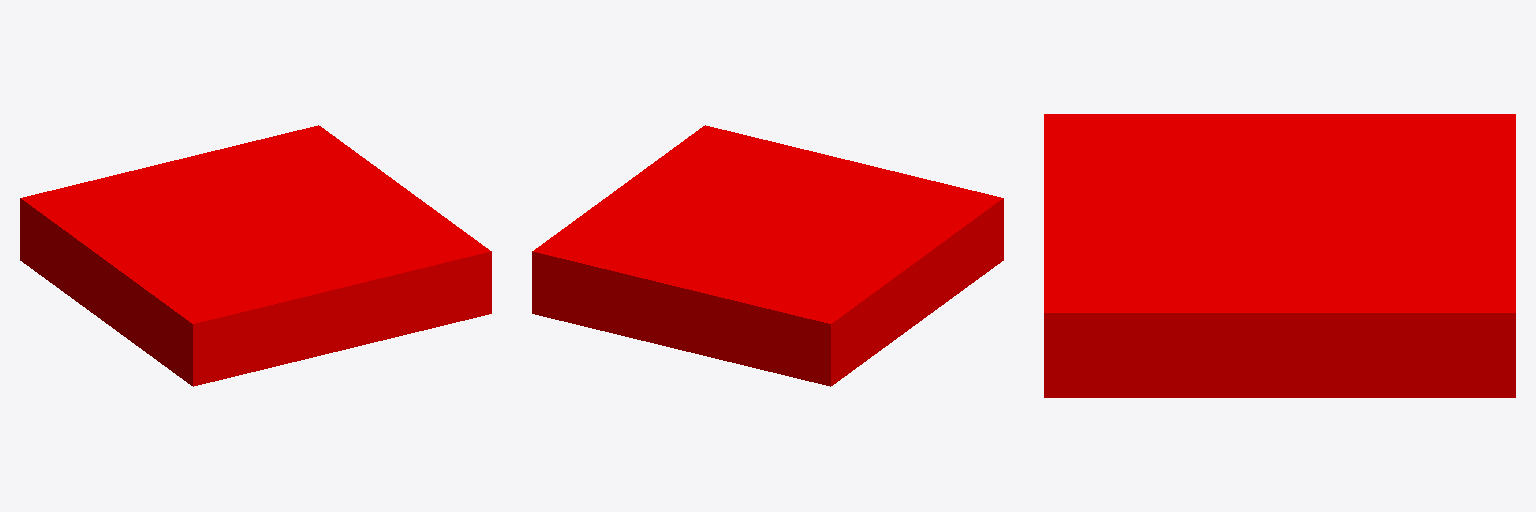
The robot description file, URDF, robot "box":
<?xml version="1.0" ?>
<robot name="box">
  <link name="boxLink">
    <inertial>
      <origin rpy="0 0 0" xyz="0 0 0"/>
       <mass value="1.0"/>
       <inertia ixx="1" ixy="0" ixz="0" iyy="1" iyz="0" izz="1"/>
    </inertial>
    <visual>
      <origin rpy="0 0 0" xyz="0 0 0"/>
      <geometry>
		    <!-- <mesh filename="box.stl" scale="0.6 1 0.3"/> -->
        <mesh filename="box.stl" scale="1 1 0.8"/>
      </geometry>
       <material name="red">
        <color rgba="1 0 0 0.8"/>
      </material>
    </visual>
    <collision>
      <origin rpy="0 0 0" xyz="0 0 0"/>
      <geometry>
	 	    <!-- <mesh filename="box.stl" scale="0.6 1 0.3"/> -->
        <mesh filename="box.stl" scale="1 1 0.8"/>
      </geometry>
    </collision>
  </link>
</robot>

--- Facts derived from the render (not from the file) ---
3 views of the same robot in one strip: view 1: azimuth 30°, elevation 25°; view 2: azimuth 150°, elevation 25°; view 3: azimuth 270°, elevation 25° (orthographic).
Model box with 1 links and 0 joints (none), rooted at boxLink, posed all joints at 0.
Visible links, largest first — view 1: boxLink; view 2: boxLink; view 3: boxLink.
Boxes of the visible links, left/top/right/bottom form: boxLink: left=20, top=125, right=491, bottom=386; boxLink: left=532, top=125, right=1003, bottom=386; boxLink: left=1044, top=114, right=1515, bottom=397.
Size in the robot's own frame: 0.4 by 0.4 by 0.08 metres.
1 mesh visuals loaded from 1 distinct referenced files (1 binary STL).